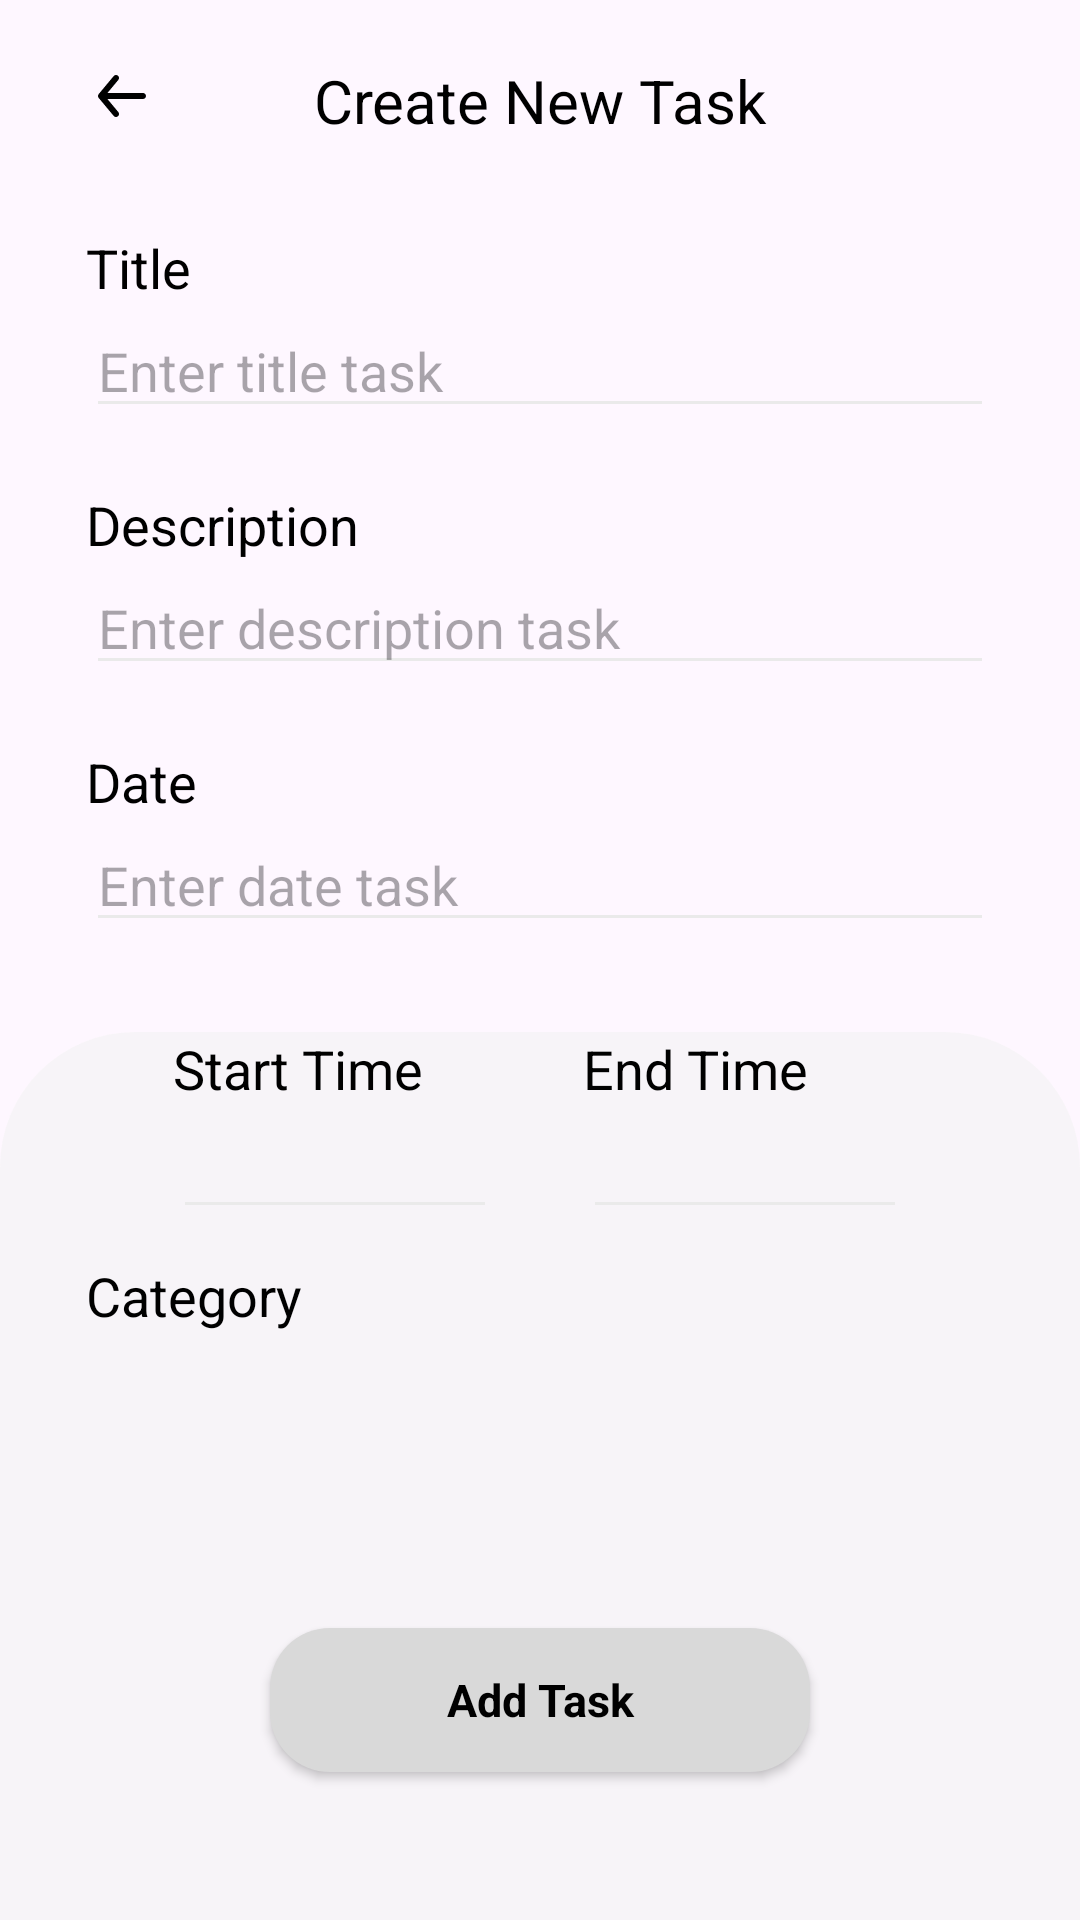

Where icons sit on this 1080x1920 app screen, as (x1, y1, x2, y2):
back: (98, 75, 146, 117)
